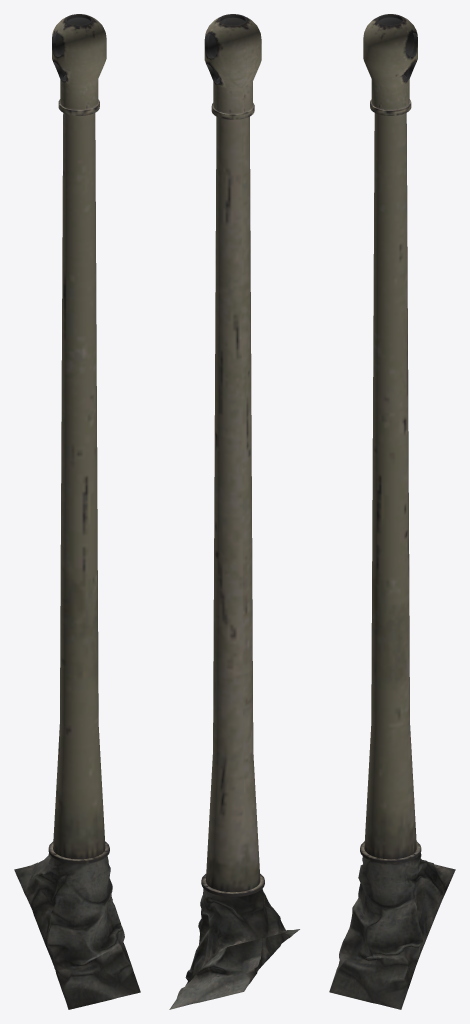
File: Gun_01.glb
The picture shows the model from 3 angles, left to right: view 1: azimuth 30°, elevation 25°; view 2: azimuth 210°, elevation 25°; view 3: azimuth 330°, elevation 25°; orthographic projection. The views are drawn at different scales.
Parts seen in each view (by area): view 1: set_0_group_0; view 2: set_0_group_0; view 3: set_0_group_0.
Boxes of the visible parts, box(x1,y1,x2,y2) form: set_0_group_0: box(14, 14, 140, 1009); set_0_group_0: box(169, 14, 299, 1009); set_0_group_0: box(329, 14, 455, 1009).
Bounding box in the file's own units: 0.2719 × 3.34 × 0.3459.
1 material, 1 textured.
